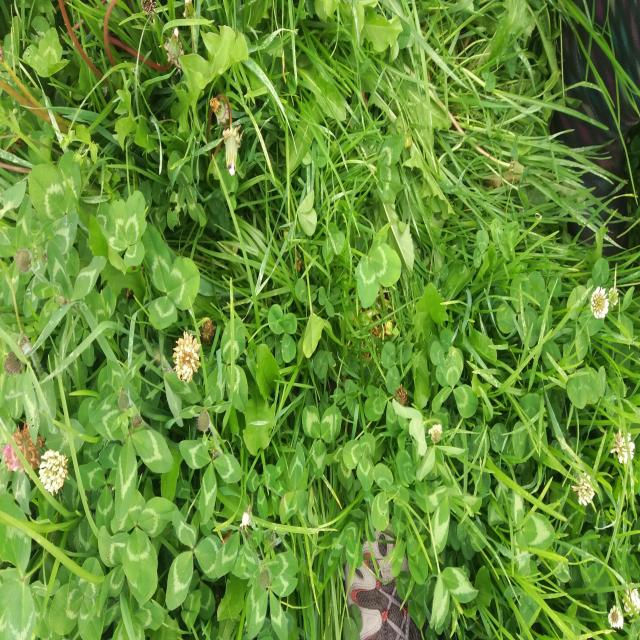Four Leaf Clover: (99, 189, 147, 268)
